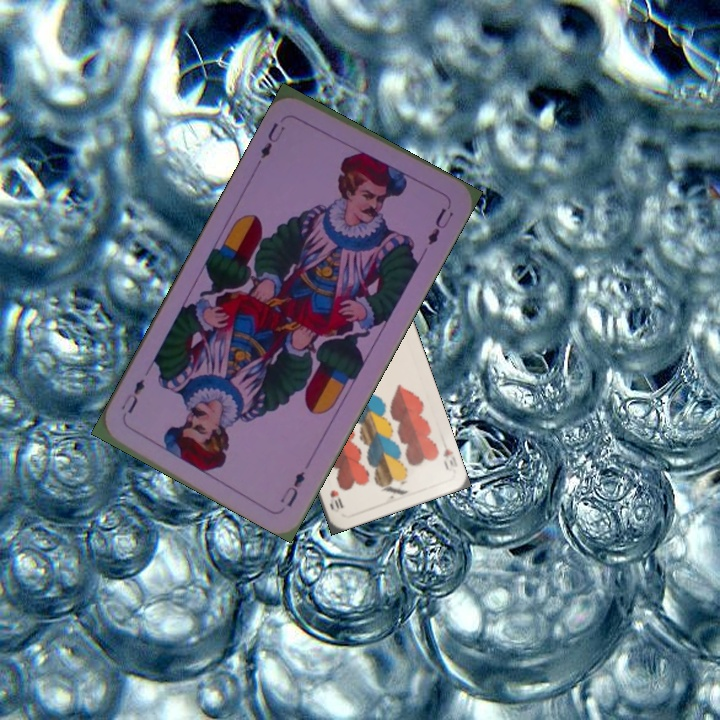EU: (256, 118, 288, 162), (276, 467, 308, 510)
H10: (439, 444, 460, 473)
